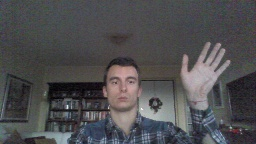Mano_aperta: (176, 38, 232, 99)
